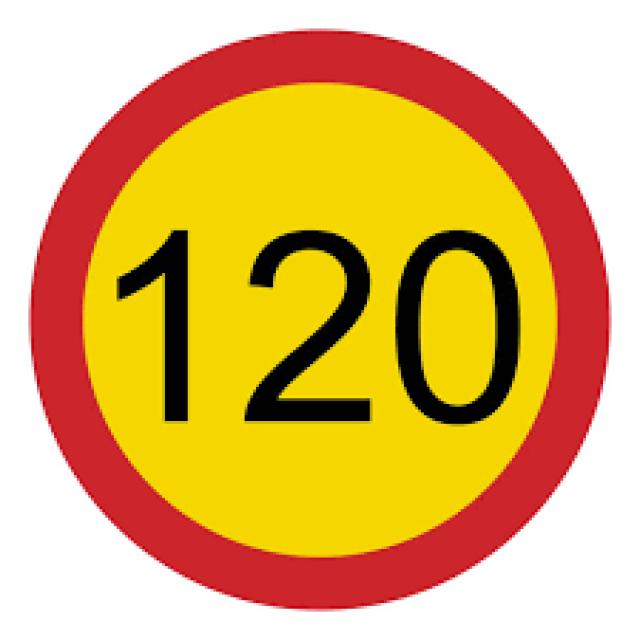SPEED_LIMIT_120: (25, 25, 618, 618)
